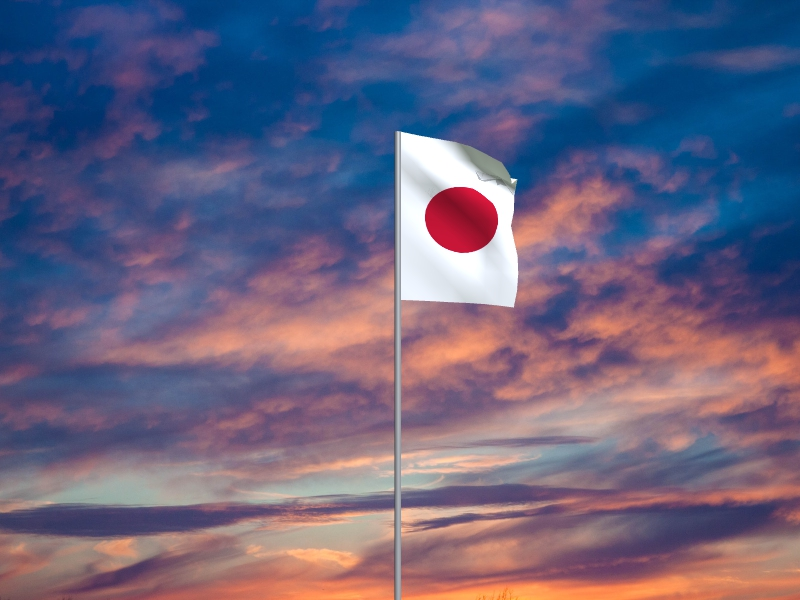jp: (402, 132, 519, 309)
